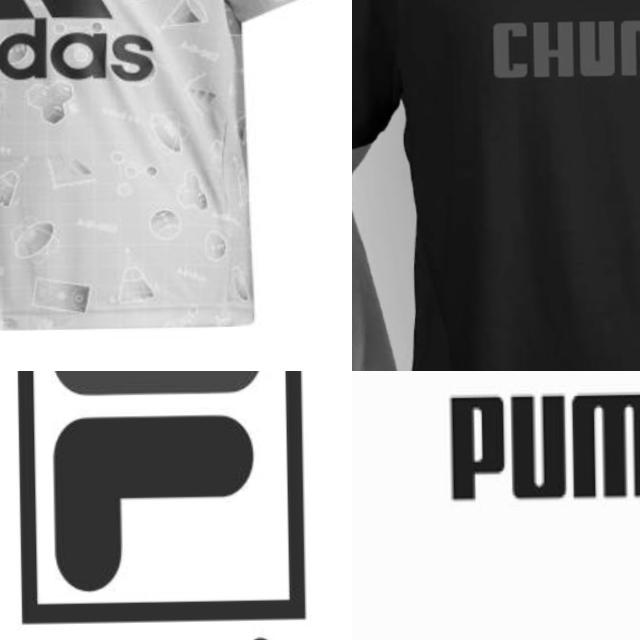ADIDAS_original: (0, 0, 175, 118)
FILA_original: (0, 371, 336, 640), (11, 371, 309, 628)
PUMA_fake: (407, 371, 640, 511), (477, 0, 640, 104)
